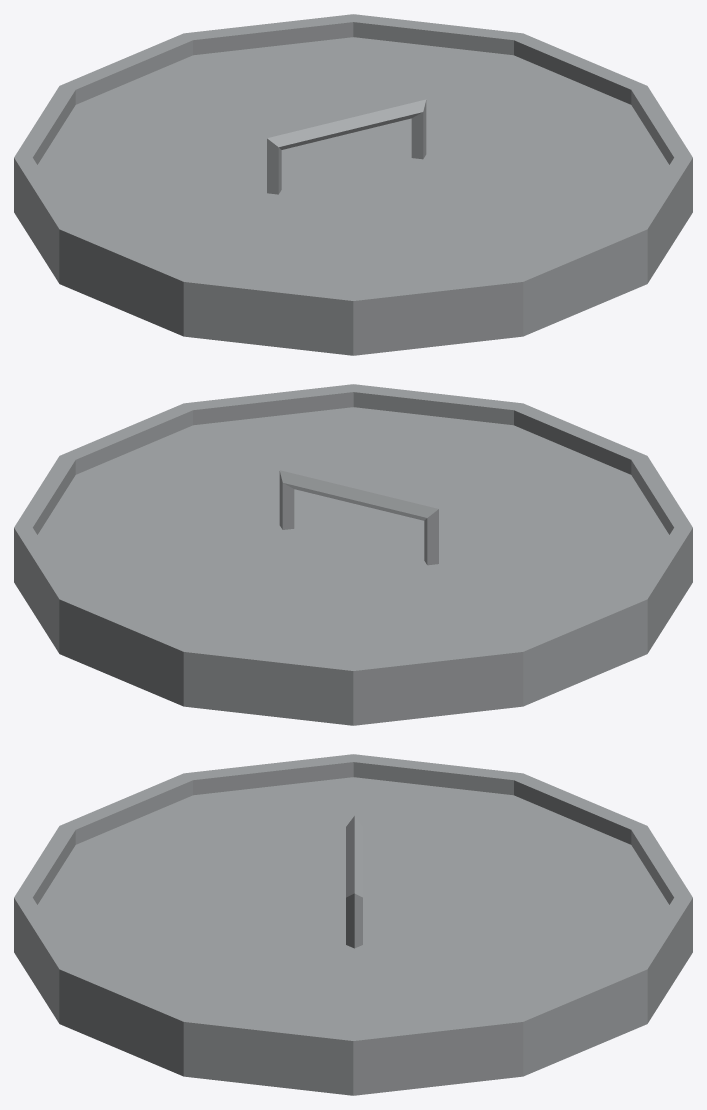
Rendered from SM_garbagecan_metal_cover.fbx.
3 renders of one model, top to bottom at view 1: azimuth 30°, elevation 25°; view 2: azimuth 150°, elevation 25°; view 3: azimuth 270°, elevation 25°, orthographic.
Parts seen in each view (by area): view 1: Object013; view 2: Object013; view 3: Object013.
Boxes of the visible parts, <box> form: Object013: <box>14,14,692,355</box>; Object013: <box>14,384,692,725</box>; Object013: <box>14,754,692,1095</box>.
Bounding box in the file's own units: 25.37 × 25.37 × 3.9.
